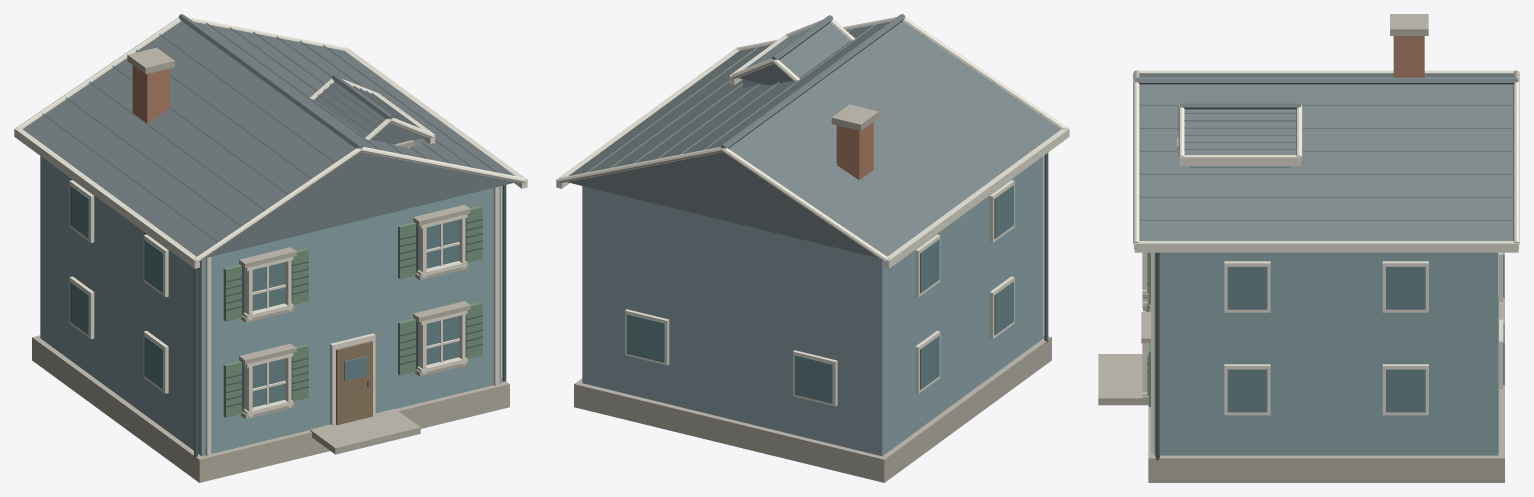
3 views of the same model, side by side, from view 1: azimuth 30°, elevation 25°; view 2: azimuth 150°, elevation 25°; view 3: azimuth 270°, elevation 25° (orthographic). The views are drawn at different scales.
Size of the model in its own units: 9.76 by 8.9 by 10.04.
